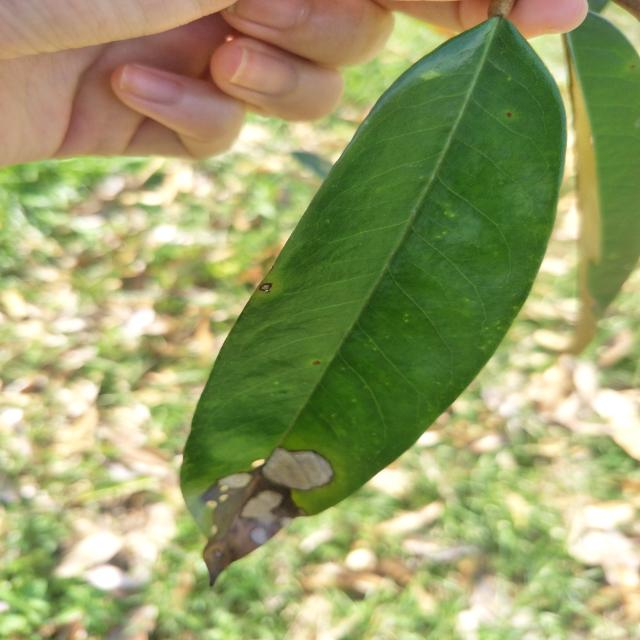Leaf Blight: (163, 425, 344, 601)
